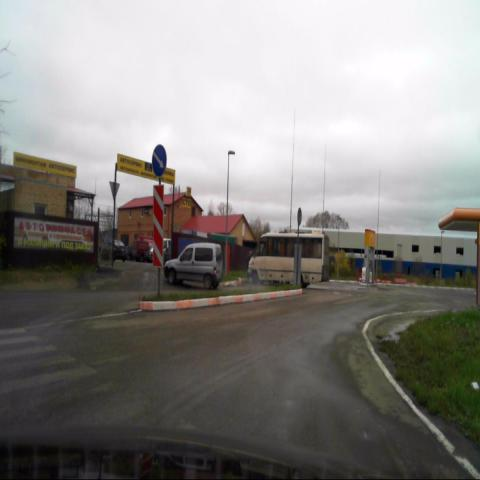4_2_1: (151, 142, 167, 178)
